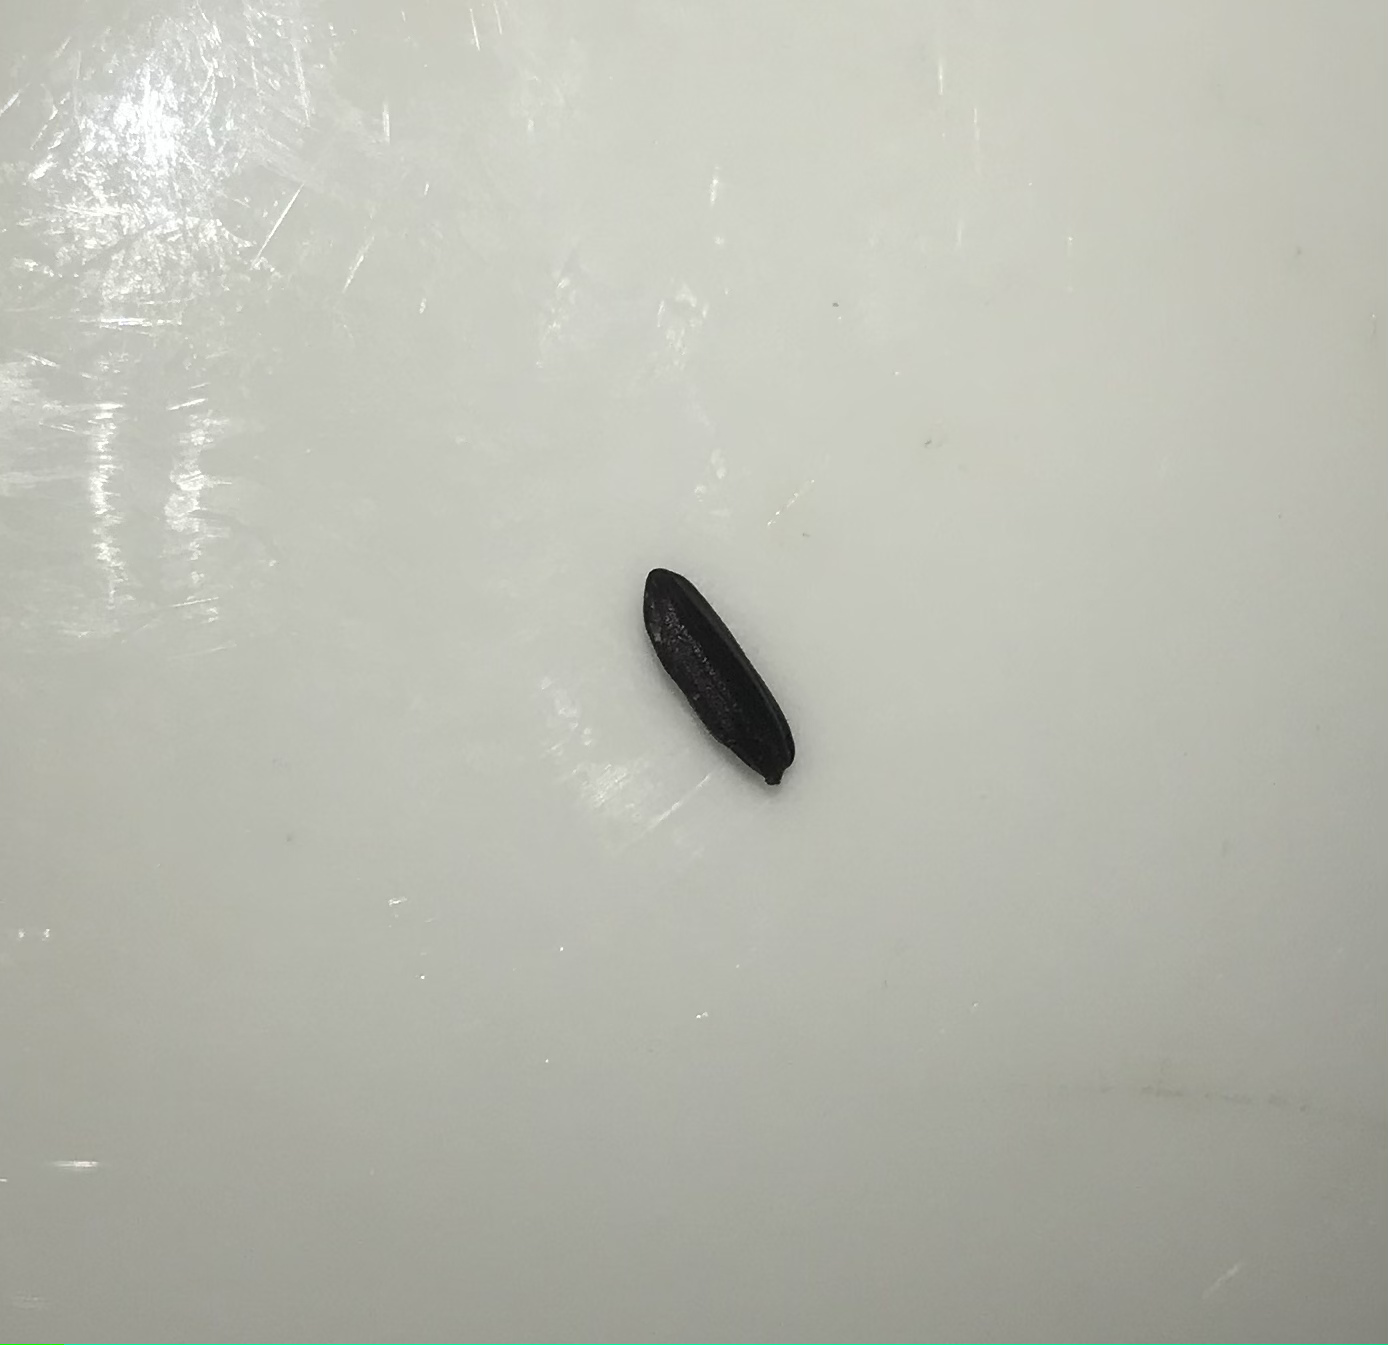Gao Nep Cam: (656, 570, 829, 817)
